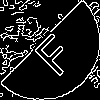F: (25, 25, 79, 79)
